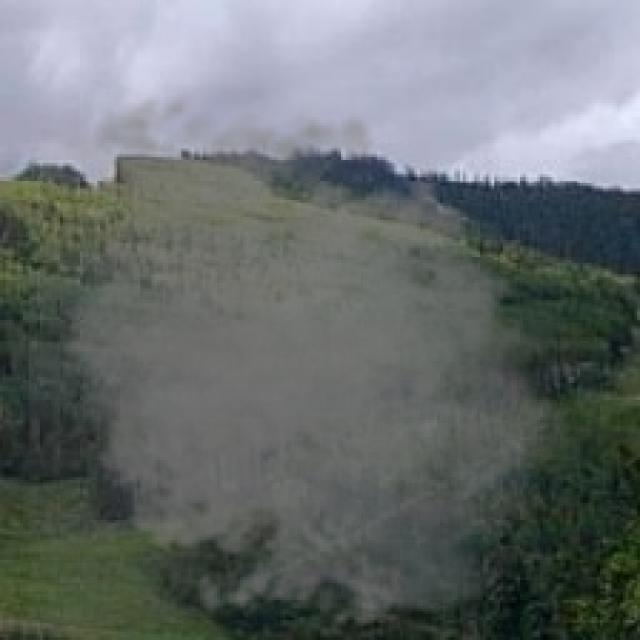smoke: (29, 80, 594, 637)
